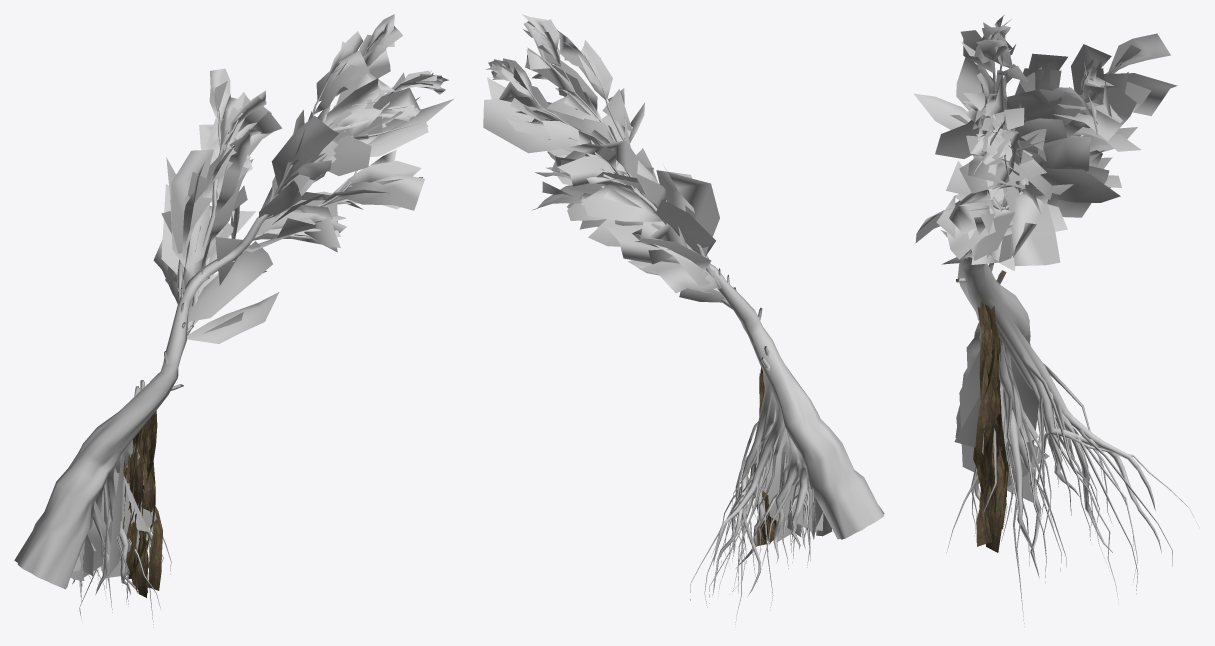
The model's file is Tree_05_1_L2.fbx.
3 renders of one model, left to right at view 1: azimuth 30°, elevation 25°; view 2: azimuth 150°, elevation 25°; view 3: azimuth 270°, elevation 25°, orthographic. The views are drawn at different scales.
Parts seen in each view (by area): view 1: polySurface263; view 2: polySurface263; view 3: polySurface263.
Part boxes in pixels (x1=…): polySurface263: x1=14, y1=14, x2=453, y2=627; polySurface263: x1=483, y1=14, x2=884, y2=624; polySurface263: x1=914, y1=15, x2=1198, y2=626.
Bounding box in the file's own units: 1054 × 1332 × 457.
